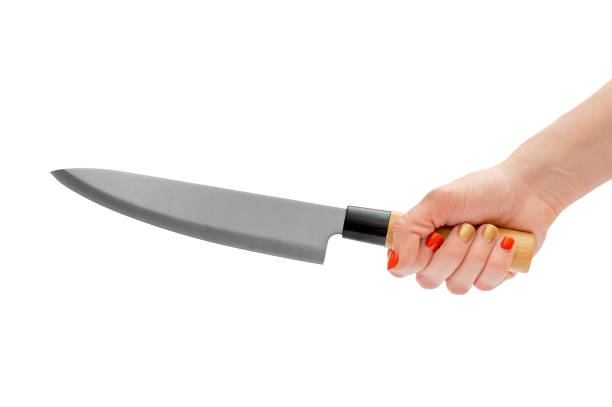knife: (49, 166, 539, 277)
